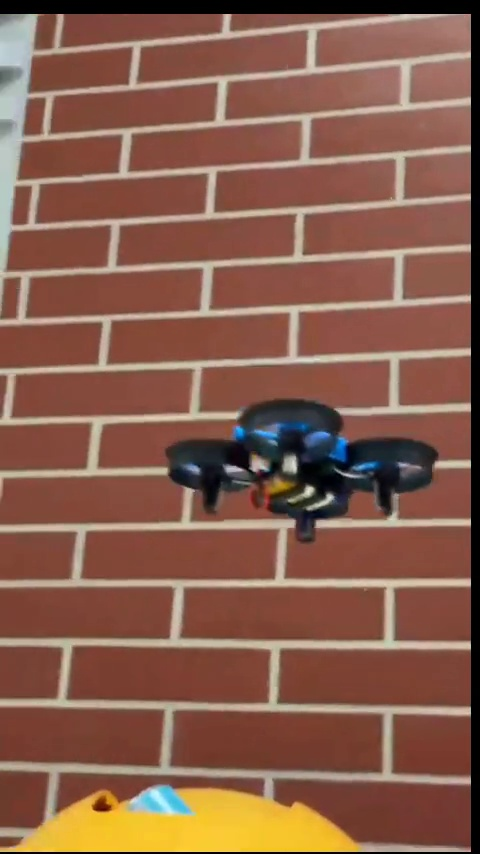drone: (157, 397, 463, 547)
